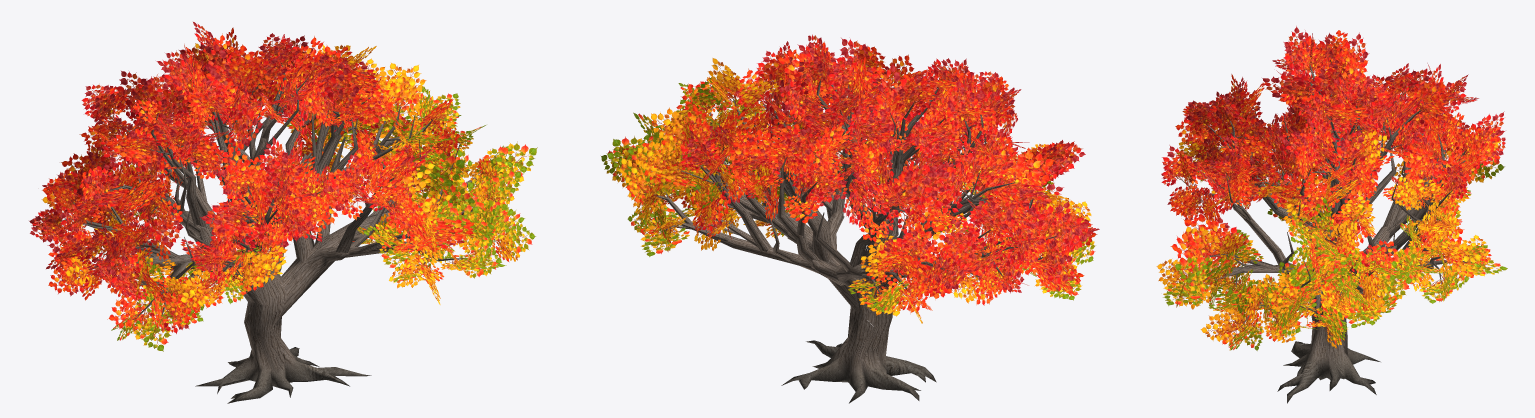
The model's file is Triadica_Autumn_LOD2.glb.
The picture shows the model from 3 angles, left to right: view 1: azimuth 30°, elevation 25°; view 2: azimuth 150°, elevation 25°; view 3: azimuth 270°, elevation 25°; orthographic projection. The views are drawn at different scales.
Parts seen in each view (by area): view 1: Triadica_Autumn_Shoots_LOD2, Triadica_Wood_LOD2; view 2: Triadica_Autumn_Shoots_LOD2, Triadica_Wood_LOD2; view 3: Triadica_Autumn_Shoots_LOD2, Triadica_Wood_LOD2.
Part boxes in pixels (bbox=[...]): Triadica_Autumn_Shoots_LOD2: bbox=[29, 22, 537, 351]; Triadica_Wood_LOD2: bbox=[60, 63, 495, 403]; Triadica_Autumn_Shoots_LOD2: bbox=[601, 34, 1099, 323]; Triadica_Wood_LOD2: bbox=[654, 78, 1056, 403]; Triadica_Autumn_Shoots_LOD2: bbox=[1156, 26, 1507, 350]; Triadica_Wood_LOD2: bbox=[1180, 45, 1471, 403].
Size of the model in its own units: 17.09 by 11.62 by 12.55.
Materials: 2 (2 with a texture image).
